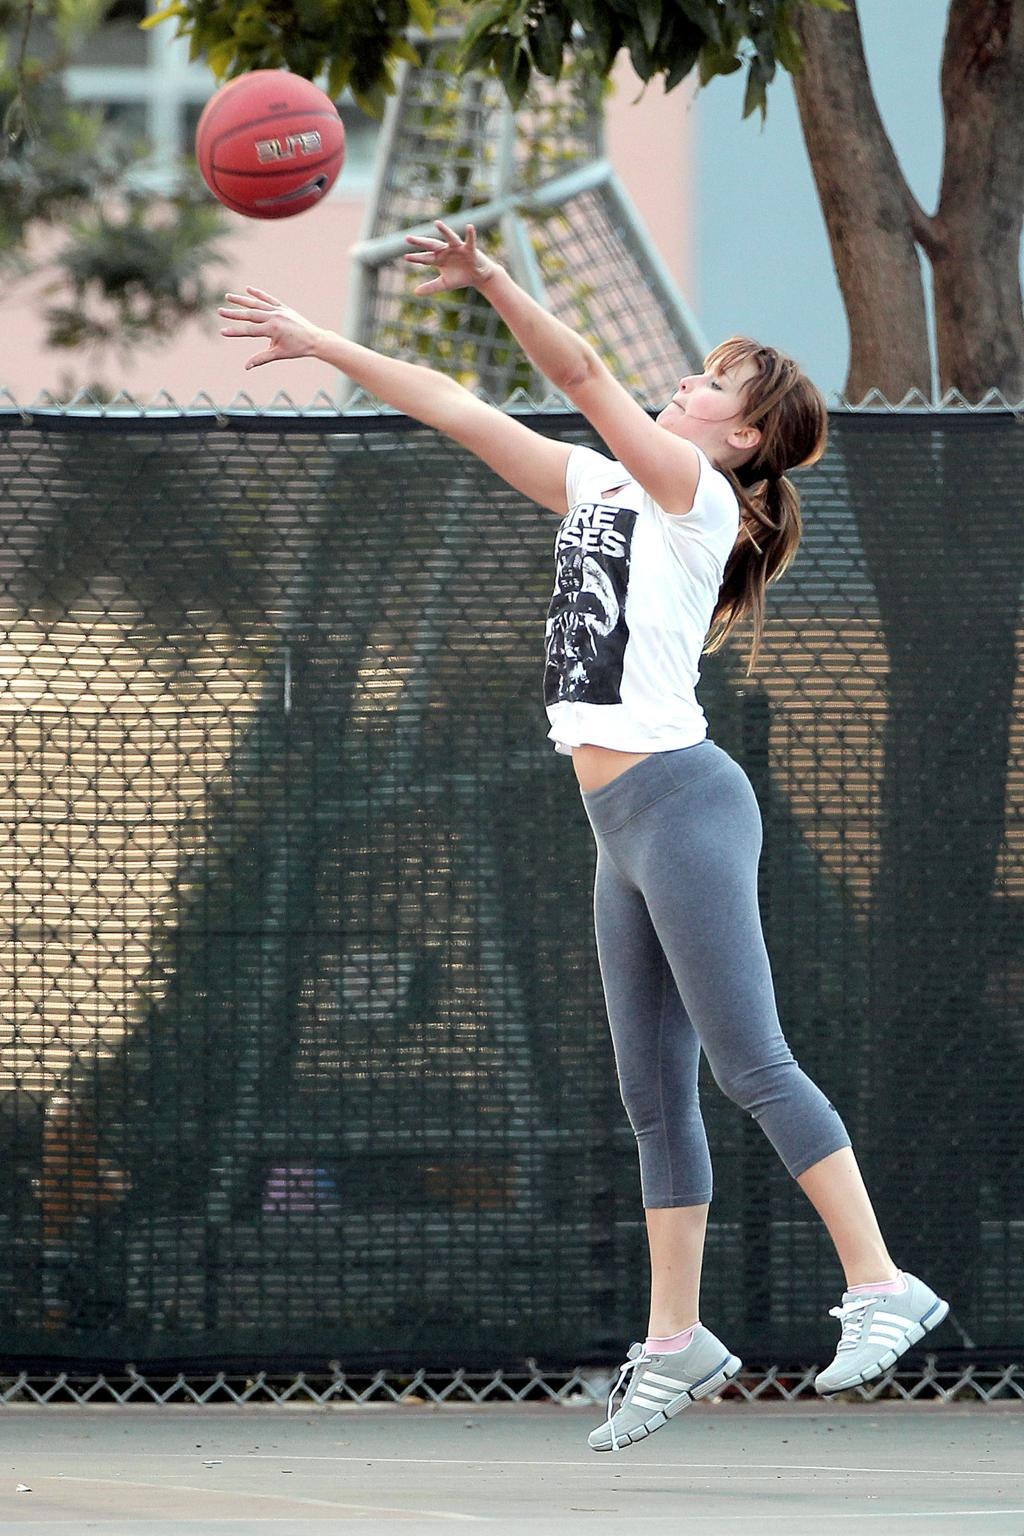face: (647, 355, 818, 451)
